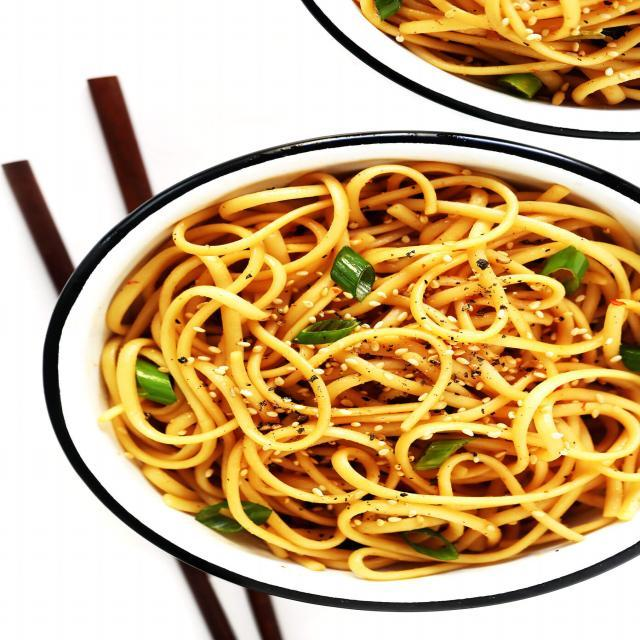noodle: (116, 172, 640, 562)
